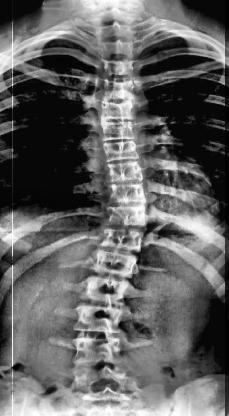Vertebrae: (70, 333, 128, 367), (71, 304, 125, 334), (87, 251, 139, 278), (78, 276, 128, 301), (95, 80, 141, 104), (100, 230, 146, 252), (104, 204, 148, 226), (103, 162, 147, 184), (98, 121, 144, 142), (107, 184, 149, 206), (96, 100, 138, 122), (99, 58, 139, 78), (96, 22, 138, 40), (101, 142, 141, 160), (99, 40, 136, 58)
